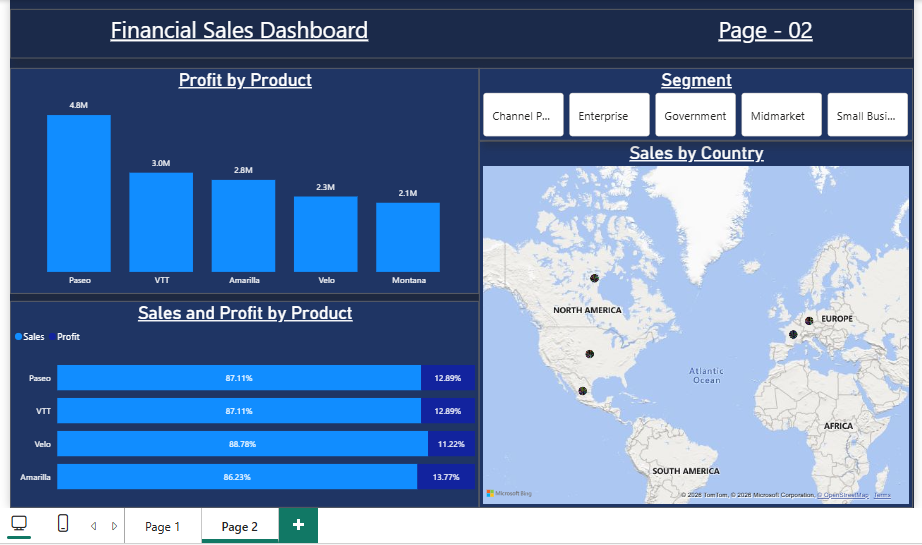

What the dashboard file says about the page in this screenshot:
{"tool":"powerbi","page":{"name":"Page 2","canvas":[1280,720],"ordinal":1},"visuals":[{"type":"textbox","box":[0,13.3,1280,70],"z":0},{"type":"clusteredColumnChart","title":"Profit by  Product ","fields":{"Category":["Financials. Product "],"Y":["Sum(Financials.Profit in $)"]},"box":[0,96.7,665,320],"z":1},{"type":"hundredPercentStackedBarChart","fields":{"Category":["Financials. Product "],"Y":["Sum(Financials.Sales in $)","Sum(Financials.Profit in $)"]},"box":[0,426.7,665,293.3],"z":2},{"type":"map","title":"Sales by Country","fields":{"Series":["Financials.Sales in $"],"Category":["Financials.Country"]},"box":[665,200,615,520],"z":3},{"type":"advancedSlicerVisual","fields":{"Values":["Financials.Segment"]},"box":[665,96.7,615,103.3],"z":4}]}

Visuals, with their boxes in screenshot pixels (x1, y1, x2, y2):
textbox: bbox=(5, 2, 914, 52)
"Profit by  Product " clusteredColumnChart: bbox=(5, 61, 477, 289)
hundredPercentStackedBarChart - Financials. Product  x Sum(Financials.Sales in $): bbox=(5, 296, 477, 504)
"Sales by Country" map: bbox=(477, 135, 914, 504)
advancedSlicerVisual - Financials.Segment: bbox=(477, 61, 914, 135)
